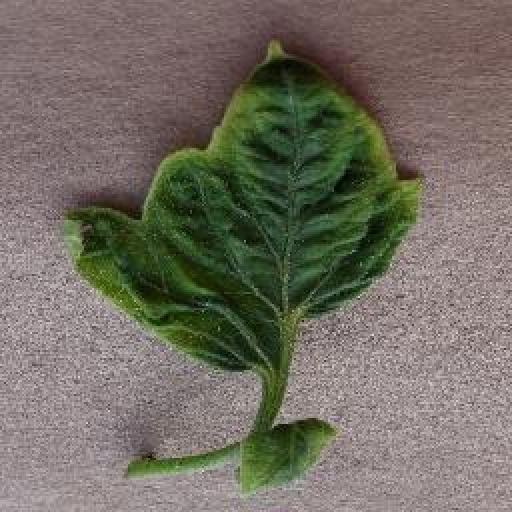disease_tomato: (67, 37, 430, 372)
